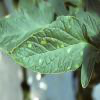Tomato mold leaf: (9, 14, 97, 87)
